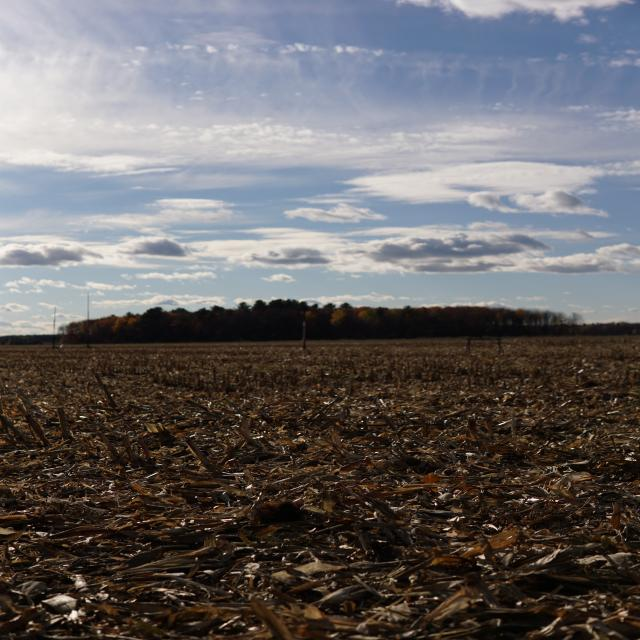Rocket: (301, 321, 307, 342)
